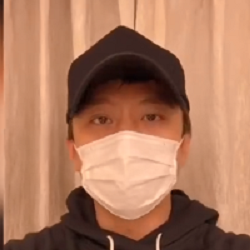mask: (70, 128, 182, 219)
